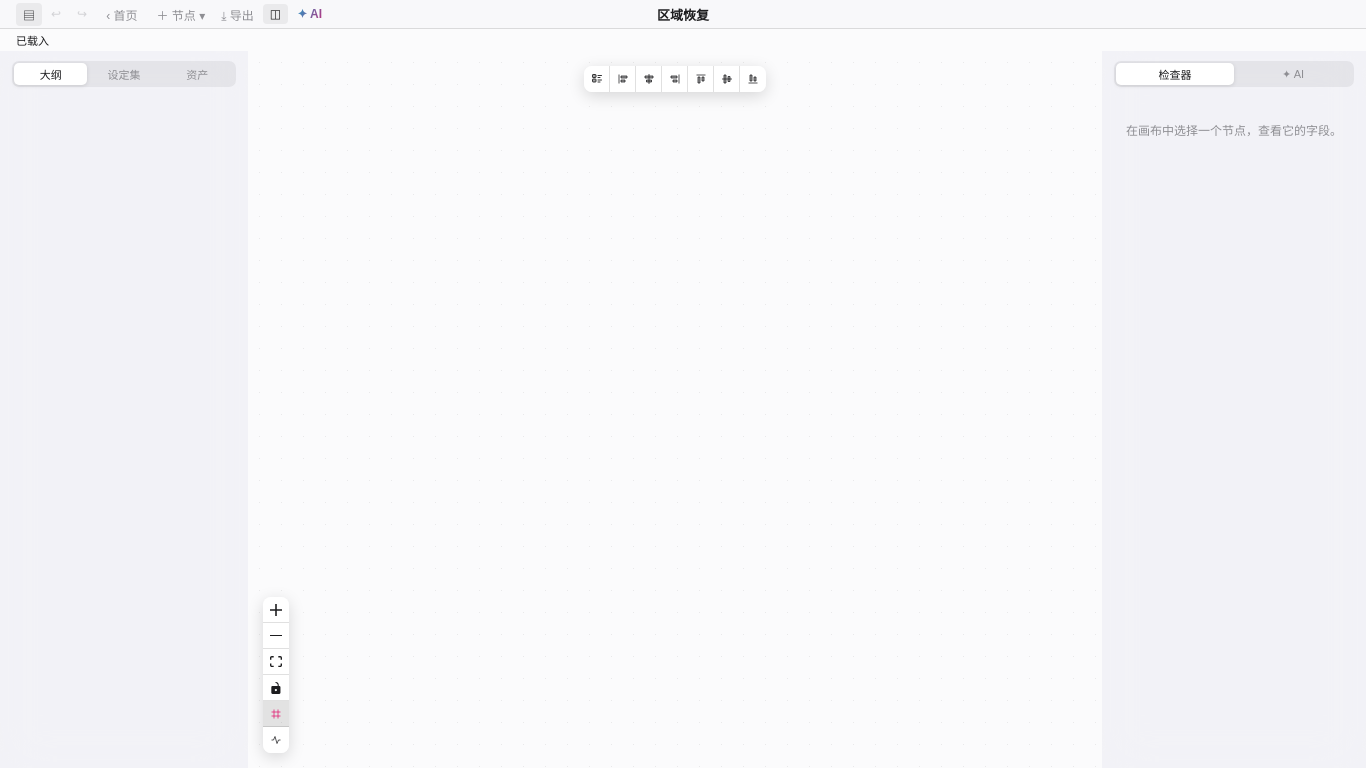
Scenario: 失败的导出浮层可关闭，清理模态标记后全局撤销仍可用
Click the button with aria-label "新增节点". click: {"x": 181, "y": 14}
box: [150,2,212,26]
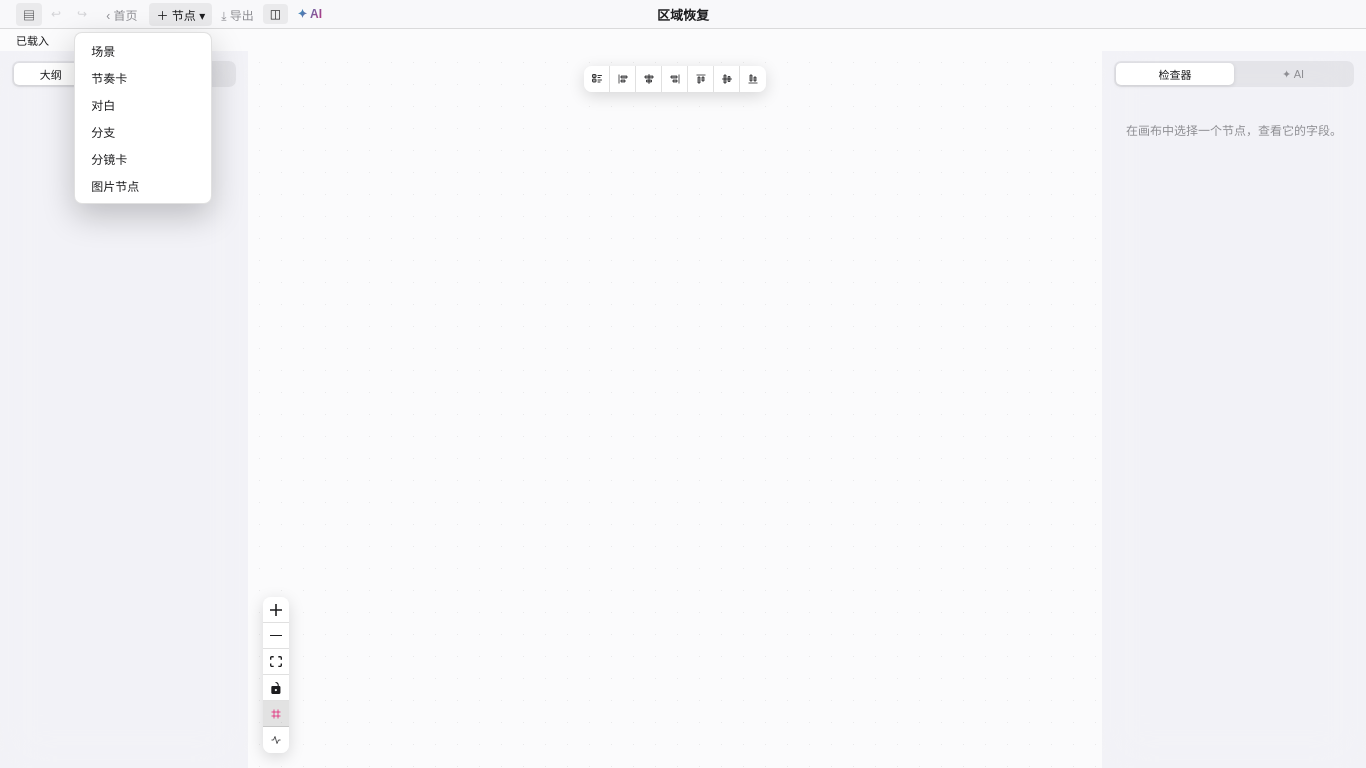
Click the menu item "场景". click: {"x": 143, "y": 50}
box: [79,36,207,64]
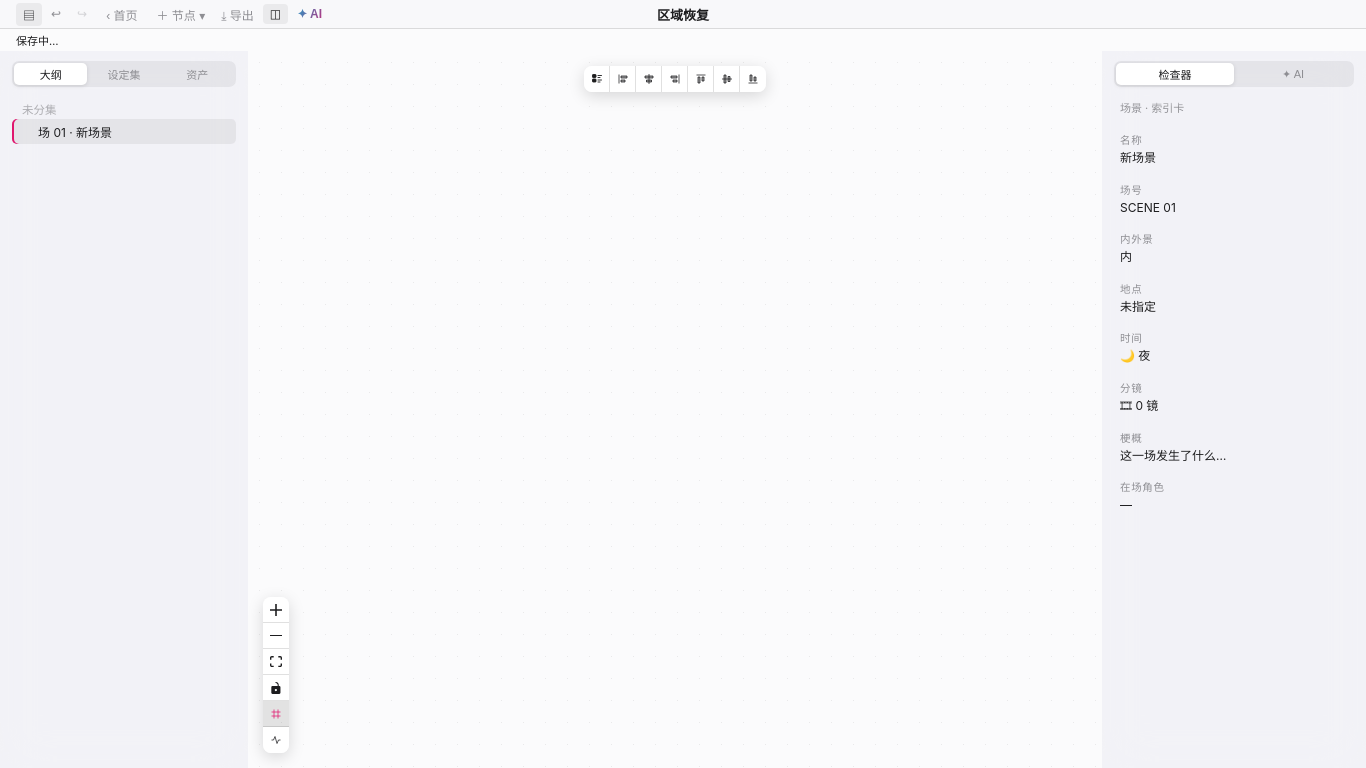
Click the button with aria-label "导出剧本". click: {"x": 238, "y": 14}
box: [214,2,261,26]
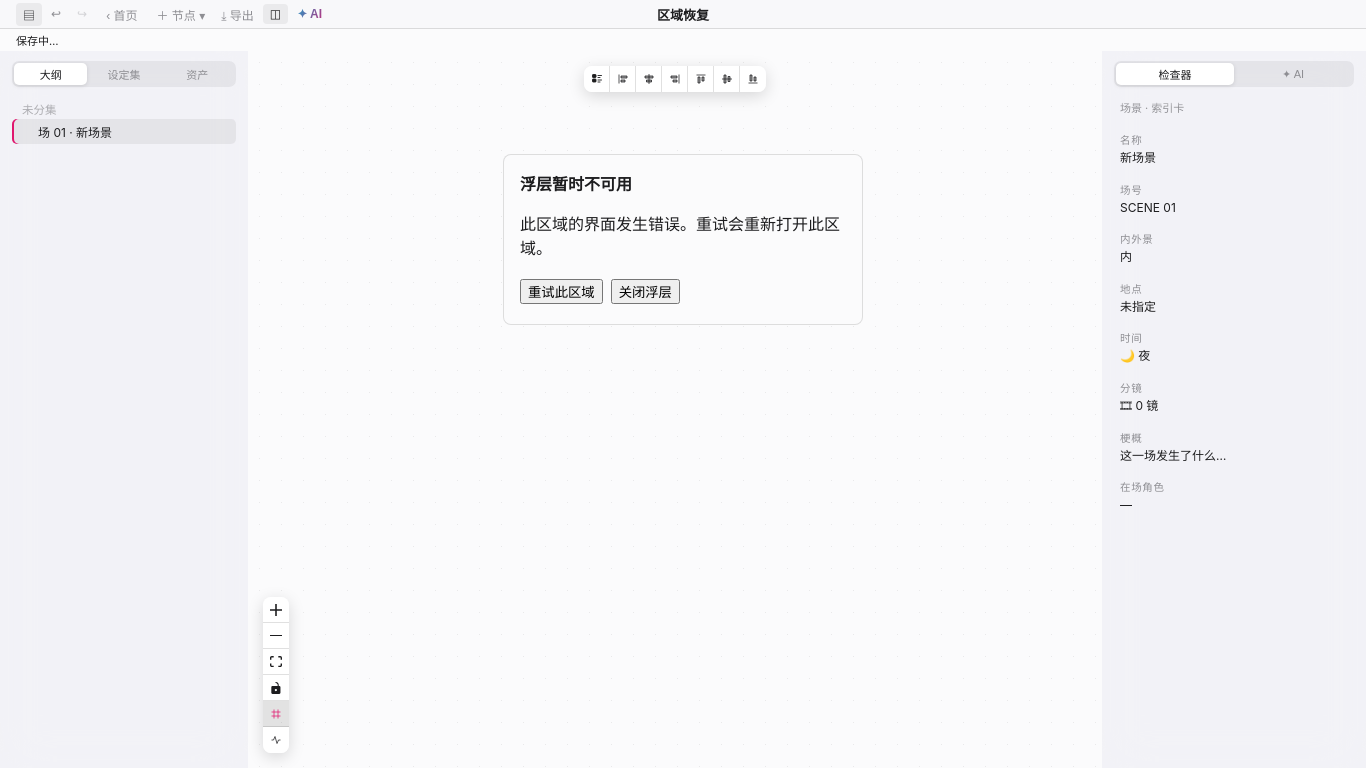
Expected: the text "浮层暂时不可用" is shown, [520,174,632,194]
Click the button "关闭浮层". click: {"x": 645, "y": 291}
box: [611,279,680,304]
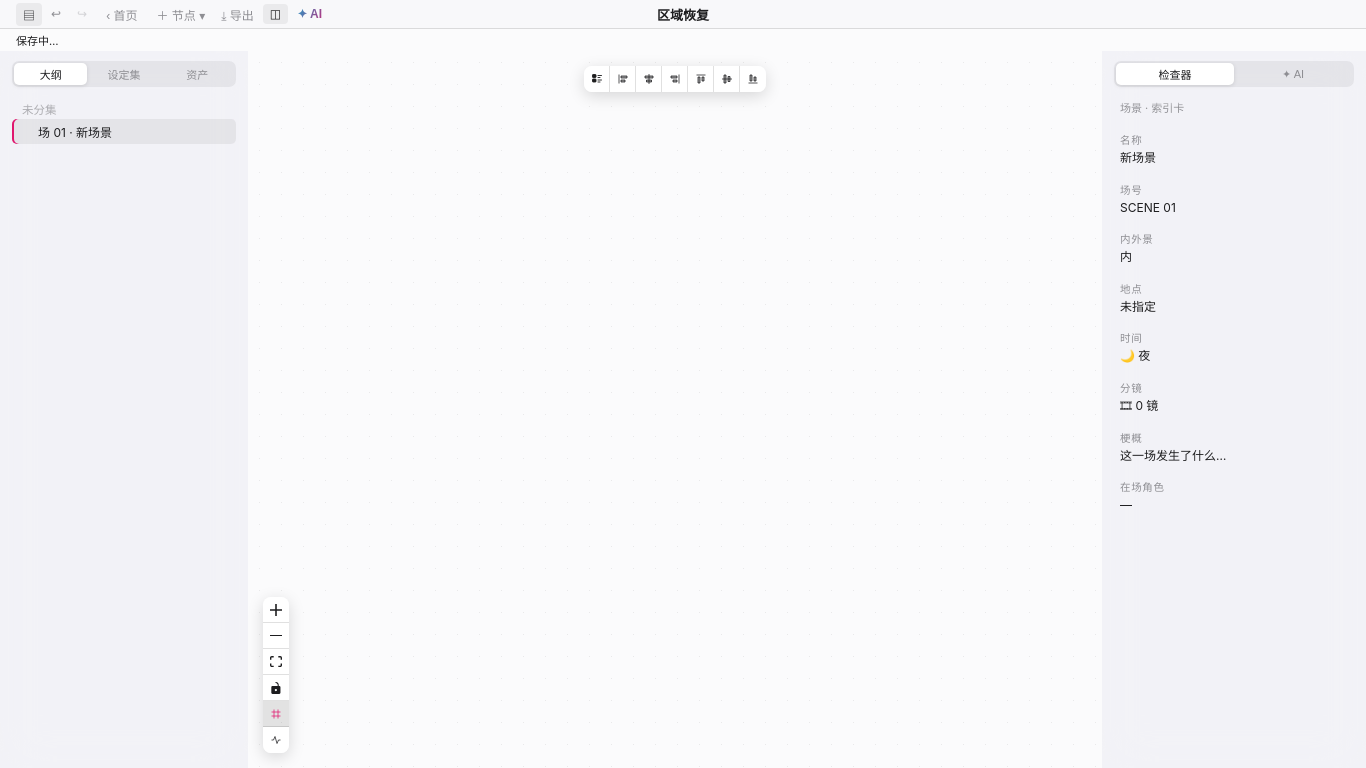
Press z
Wait 600 ms
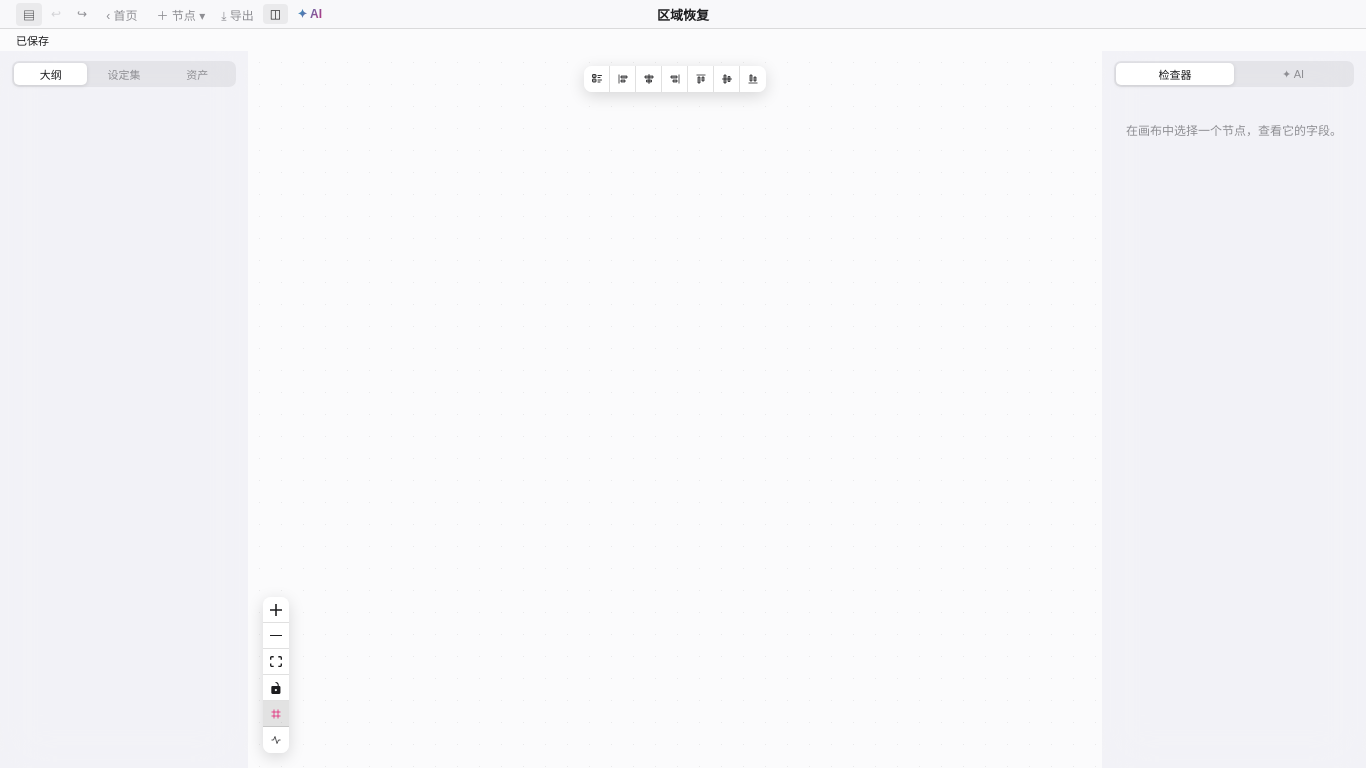
Click the button with aria-label "导出剧本". click: {"x": 238, "y": 14}
box: [214,2,261,26]
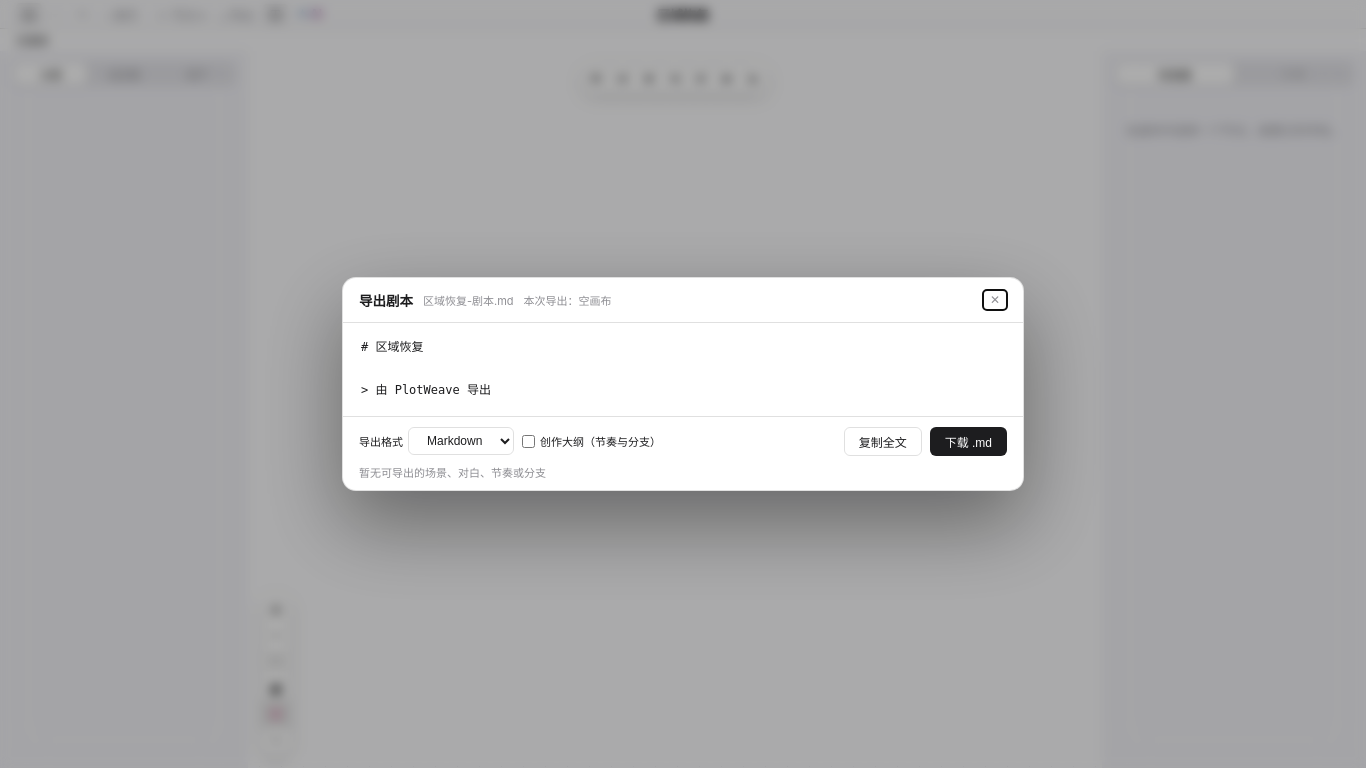
Expected: the dialog is shown, [342,277,1024,491]
